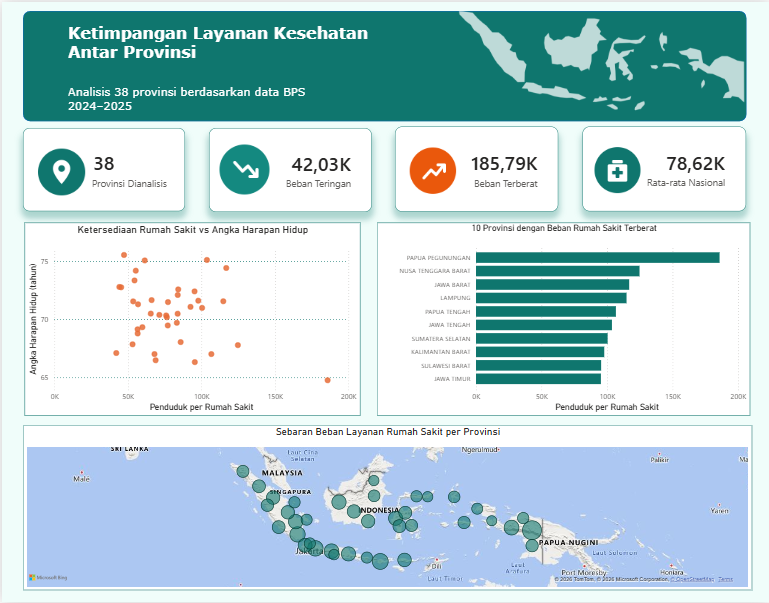

The dashboard page shown, as its layout file describes it:
{"tool":"powerbi","page":{"name":"Page 1","canvas":[1280,1000],"ordinal":0},"visuals":[{"type":"cardVisual","fields":{"Data":["CountNonNull(public health_clean.provinsi)"]},"box":[35.6,210,270,138.3],"z":0},{"type":"cardVisual","fields":{"Data":["Avg(public health_clean.penduduk_per_rs)"]},"box":[967.8,207.8,272.9,141.4],"z":1000},{"type":"cardVisual","fields":{"Data":["Max(public health_clean.penduduk_per_rs)"]},"box":[656,208,272,142],"z":2000},{"type":"cardVisual","fields":{"Data":["Min(public health_clean.penduduk_per_rs)"]},"box":[345.6,208.9,271.4,140],"z":3000},{"type":"map","title":"Sebaran Beban Layanan Rumah Sakit per Provinsi","fields":{"Size":["Avg(public health_clean.penduduk_per_rs)"],"Category":["public health_clean.provinsi_peta"]},"box":[35,705,1215,275],"z":4000},{"type":"barChart","title":"10 Provinsi dengan Beban Rumah Sakit Terberat","fields":{"Category":["public health_clean.provinsi"],"Y":["Avg(public health_clean.penduduk_per_rs)"]},"box":[626,368,622,322],"z":5000},{"type":"scatterChart","title":"Ketersediaan Rumah Sakit vs Angka Harapan Hidup","fields":{"Category":["public health_clean.provinsi"],"X":["Avg(public health_clean.penduduk_per_rs)"],"Y":["Avg(public health_clean.ahh_rata2)"]},"box":[38,368,560,322],"z":6000},{"type":"shape","box":[36,16,1206,184],"z":7000},{"type":"textbox","box":[106,30,582,88],"z":8000},{"type":"textbox","box":[106,132,464,68],"z":9000},{"type":"image","box":[747.5,0,500,192],"z":10000},{"type":"image","box":[60,215,78.3,136.7],"z":11000},{"type":"image","box":[363.3,236.7,83.3,83.3],"z":12000},{"type":"image","box":[677.5,241.7,81.2,77.5],"z":13000},{"type":"image","box":[986.7,231.7,76.7,95.6],"z":14000}]}

Visuals, with their boxes in screenshot pixels (x1, y1, x2, y2), scaled from the page's 1280x1000 canvas onto the 769x603 screenshot:
cardVisual - CountNonNull(public health_clean.provinsi): (21,127,184,210)
cardVisual - Avg(public health_clean.penduduk_per_rs): (581,125,745,211)
cardVisual - Max(public health_clean.penduduk_per_rs): (394,125,558,211)
cardVisual - Min(public health_clean.penduduk_per_rs): (208,126,371,210)
"Sebaran Beban Layanan Rumah Sakit per Provinsi" map: (21,425,751,591)
"10 Provinsi dengan Beban Rumah Sakit Terberat" barChart: (376,222,750,416)
"Ketersediaan Rumah Sakit vs Angka Harapan Hidup" scatterChart: (23,222,359,416)
shape: (22,10,746,121)
textbox: (64,18,413,71)
textbox: (64,80,342,121)
image: (449,0,749,116)
image: (36,130,83,212)
image: (218,143,268,193)
image: (407,146,456,192)
image: (593,140,639,197)
